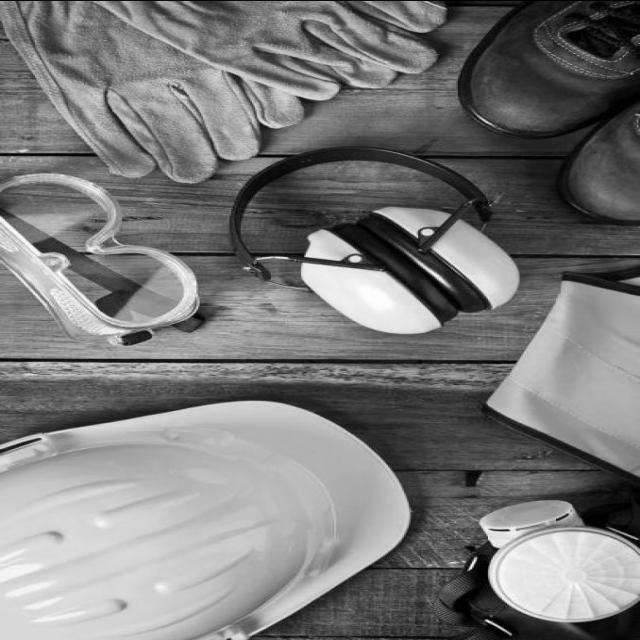safety_helmet: (0, 398, 414, 640)
